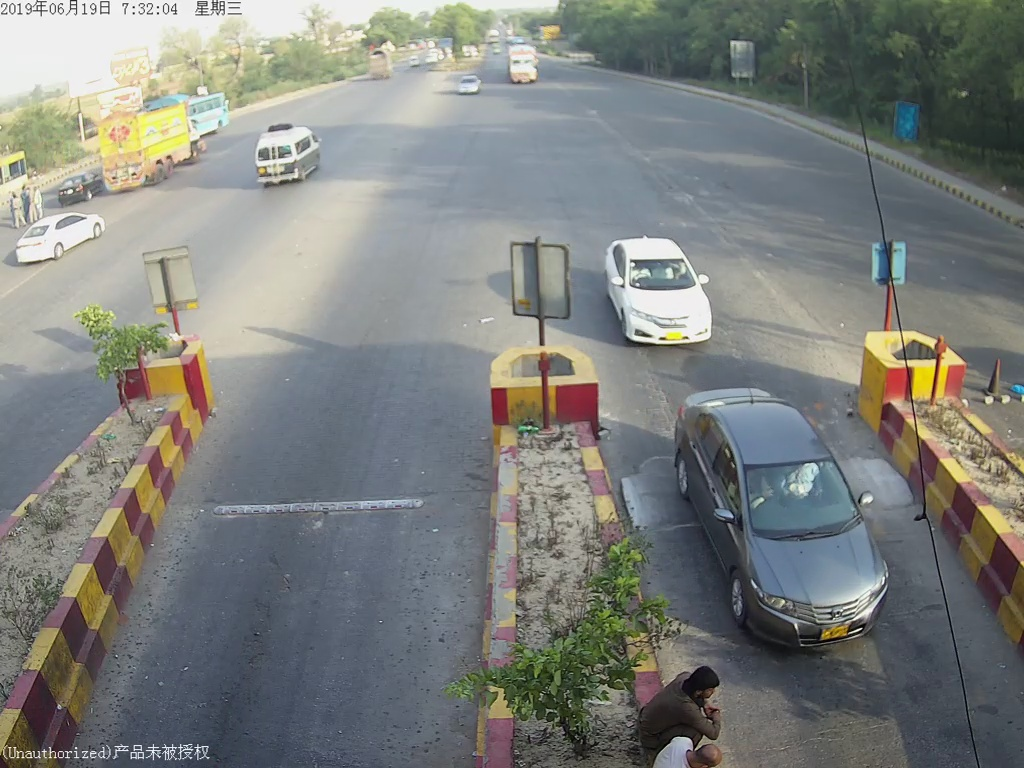Cat-1: (666, 393, 902, 646), (600, 234, 727, 357)
